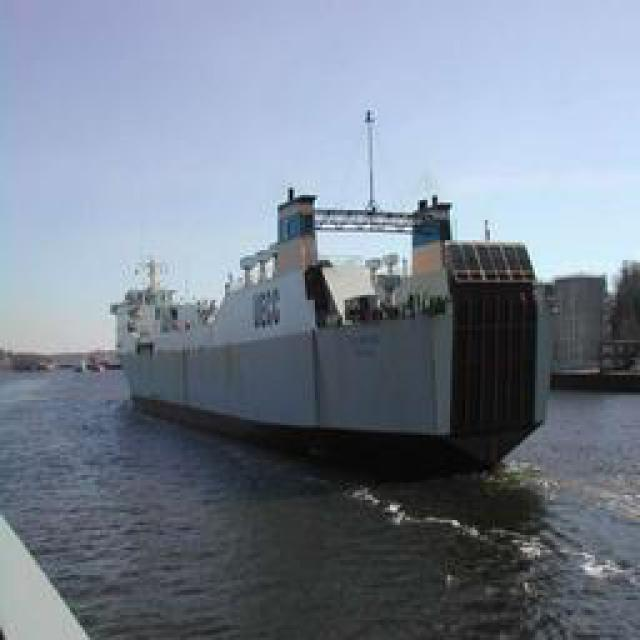Ship: (115, 97, 570, 467)
